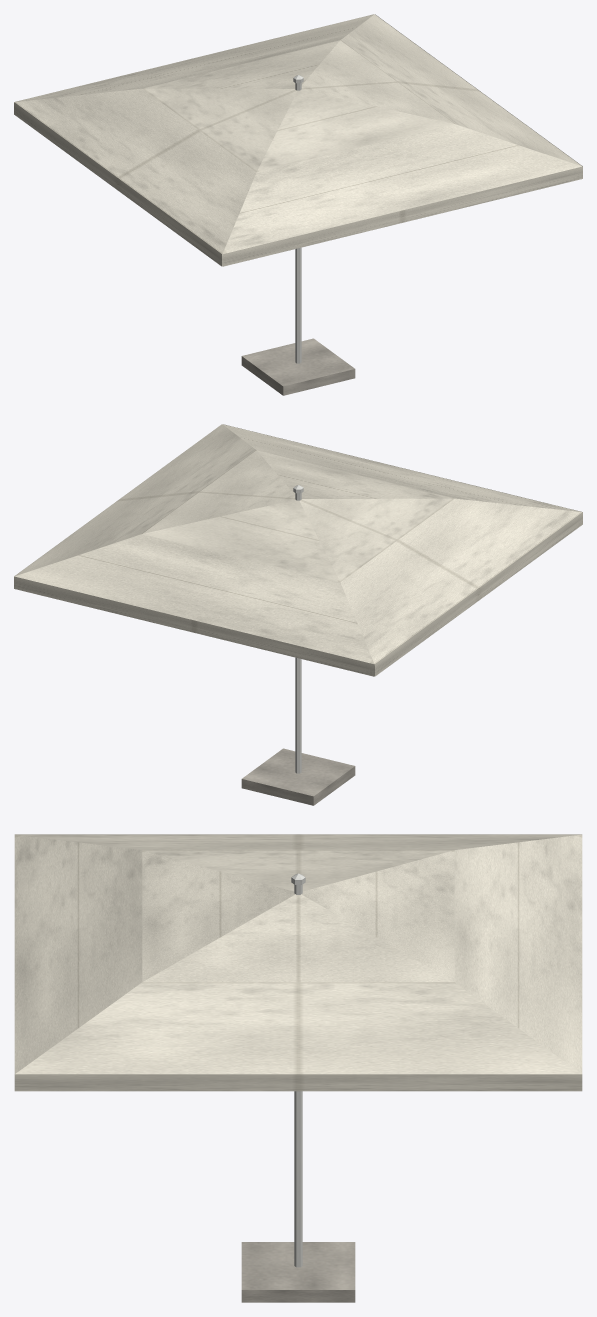
File: SM_Molo_Ombrellone4x4_LOD1.fbx
The picture shows the model from 3 angles, top to bottom: view 1: azimuth 30°, elevation 25°; view 2: azimuth 150°, elevation 25°; view 3: azimuth 270°, elevation 25°; orthographic projection. The views are drawn at different scales.
Parts seen in each view (by area): view 1: SM_Molo_Ombrellone4x4_LOD1; view 2: SM_Molo_Ombrellone4x4_LOD1; view 3: SM_Molo_Ombrellone4x4_LOD1.
Boxes of the visible parts, x1,y1,x2,y2 form: SM_Molo_Ombrellone4x4_LOD1: (14,14,582,395); SM_Molo_Ombrellone4x4_LOD1: (14,424,582,805); SM_Molo_Ombrellone4x4_LOD1: (14,834,582,1302).
Bounding box in the file's own units: 401 × 401 × 315.
Materials: 1 (1 with a texture image).
